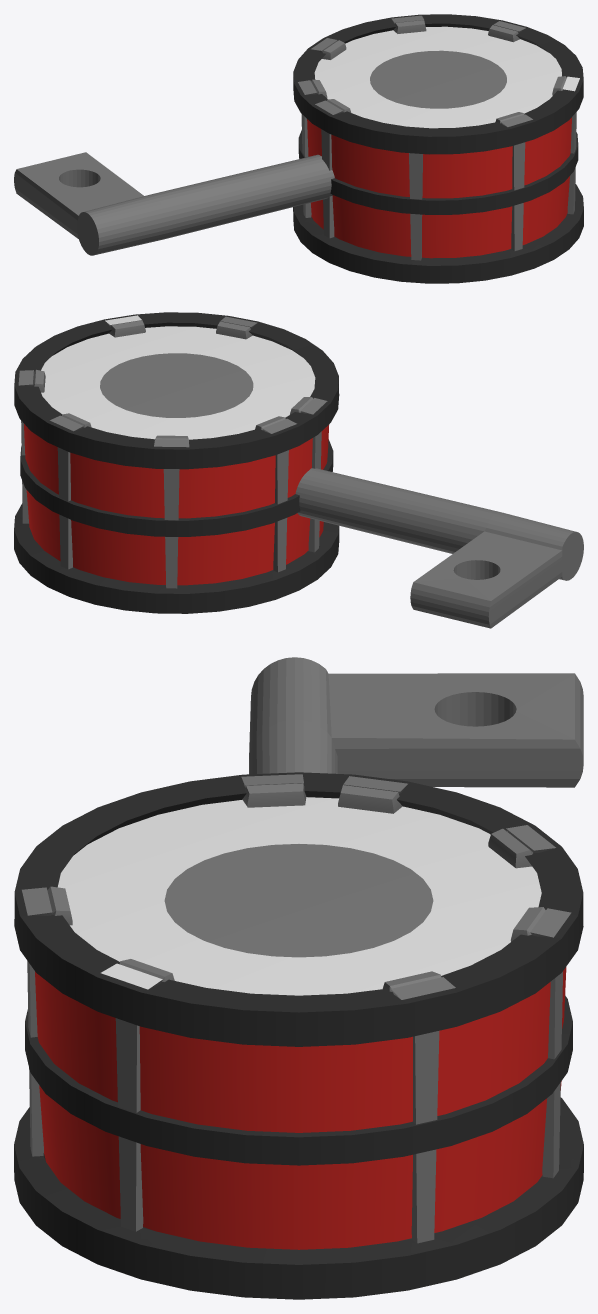
Rendered from DrumKey_1.fbx.
3 renders of one model, top to bottom at view 1: azimuth 30°, elevation 25°; view 2: azimuth 150°, elevation 25°; view 3: azimuth 270°, elevation 25°, orthographic. The views are drawn at different scales.
Parts seen in each view (by area): view 1: Circle.002; view 2: Circle.002; view 3: Circle.002.
Part boxes in pixels (x1,y1,x2,y2): Circle.002: [14, 14, 583, 283]; Circle.002: [14, 312, 583, 628]; Circle.002: [14, 657, 583, 1299].
Bounding box in the file's own units: 425 × 126 × 224.
